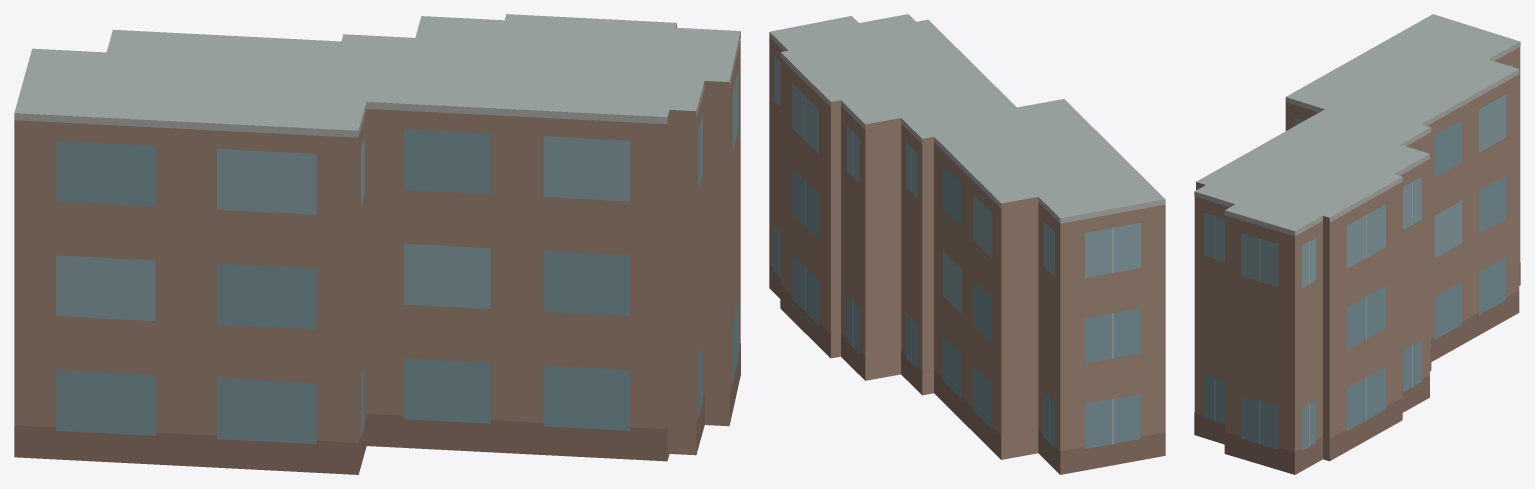
File: survey-upis-32471893.glb
3 renders of one model, left to right at view 1: azimuth 30°, elevation 25°; view 2: azimuth 150°, elevation 25°; view 3: azimuth 270°, elevation 25°, orthographic. The views are drawn at different scales.
Visible parts, largest first — view 1: survey-upis-32471893.tmp; view 2: survey-upis-32471893.tmp; view 3: survey-upis-32471893.tmp.
Part boxes in pixels (bbox=[...]): survey-upis-32471893.tmp: bbox=[14, 14, 740, 474]; survey-upis-32471893.tmp: bbox=[769, 14, 1165, 474]; survey-upis-32471893.tmp: bbox=[1194, 14, 1520, 474].
Size of the model in its own units: 22.87 by 11.95 by 14.49.
